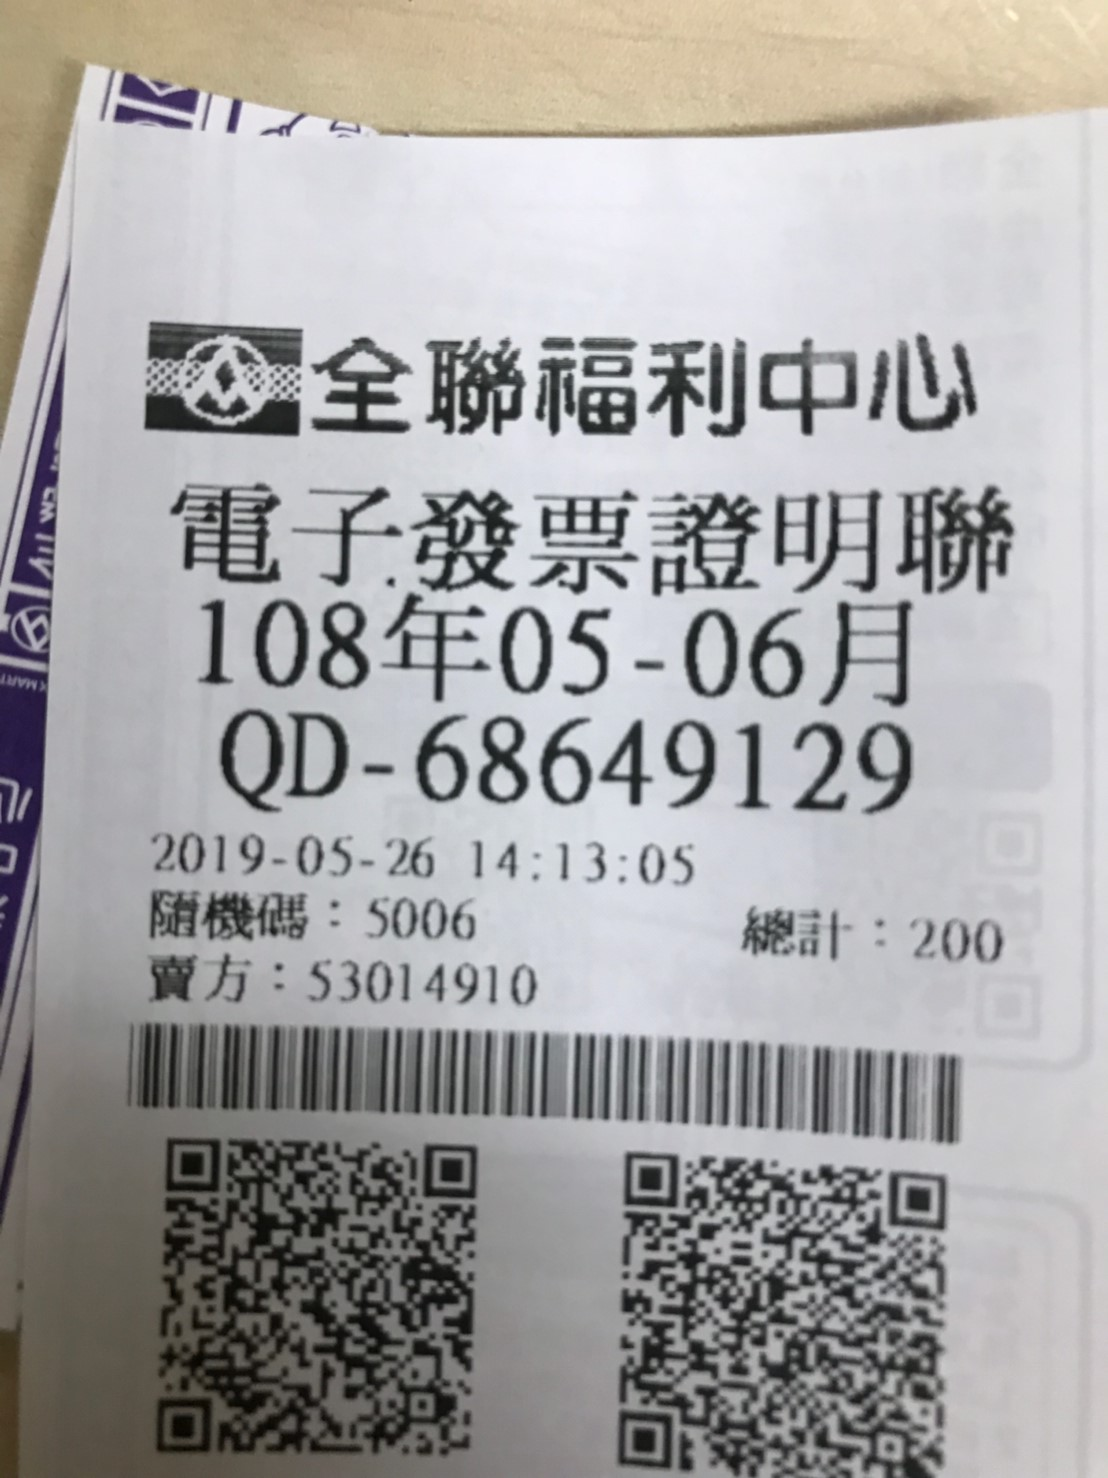Date_New: (196, 591, 917, 713)
Number_New: (411, 713, 917, 824)
